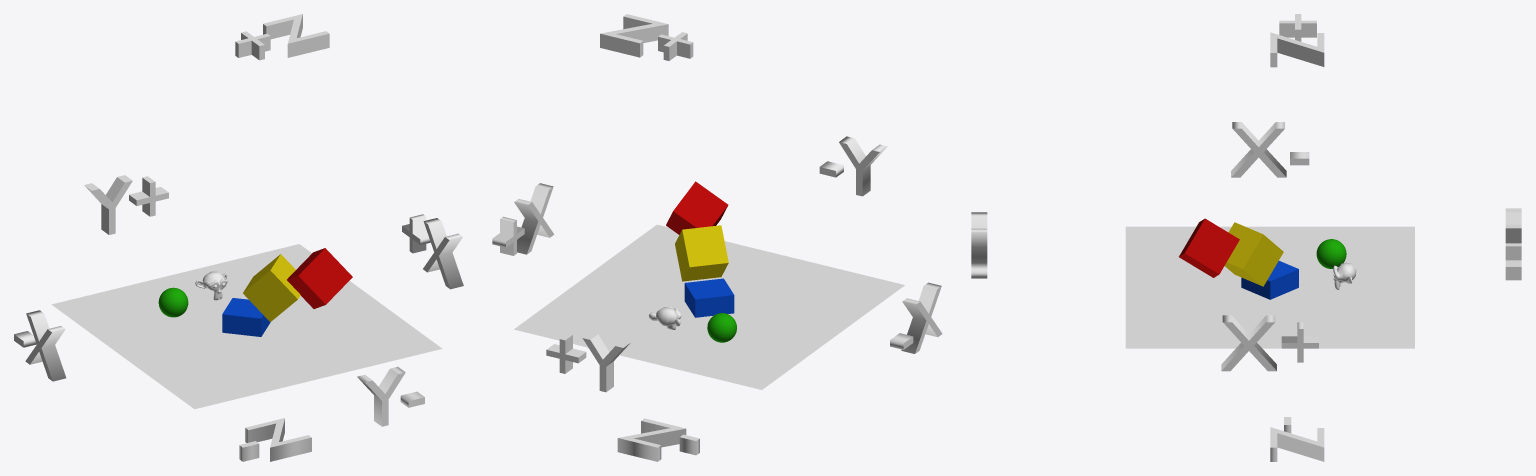
The model's file is test_rotation.dae.
3 renders of one model, left to right at view 1: azimuth 30°, elevation 25°; view 2: azimuth 150°, elevation 25°; view 3: azimuth 270°, elevation 25°, orthographic.
Parts seen in each view (by area): view 1: Plane, Cube, Text, Cube_002, Text_004, Text_002, Text_001, Text_005, Text_003, Sphere, Monkey; view 2: Plane, Cube, Text_004, Text, Text_005, Text_002, Cube_002, Text_001, Text_003, Sphere, Monkey; view 3: Plane, Cube, Text, Cube_002, Text_004, Text_001, Text_005, Text_002, Text_003, Sphere.
Part boxes in pixels (x1=…): Plane: x1=51, y1=244, x2=442, y2=409; Cube: x1=222, y1=254, x2=300, y2=336; Text: x1=402, y1=214, x2=463, y2=289; Cube_002: x1=287, y1=248, x2=352, y2=308; Text_004: x1=235, y1=14, x2=329, y2=60; Text_002: x1=84, y1=175, x2=168, y2=234; Text_001: x1=14, y1=310, x2=66, y2=381; Text_005: x1=239, y1=418, x2=311, y2=461; Text_003: x1=357, y1=366, x2=424, y2=426; Sphere: x1=158, y1=287, x2=188, y2=317; Monkey: x1=195, y1=271, x2=227, y2=300; Plane: x1=514, y1=224, x2=904, y2=389; Cube: x1=675, y1=225, x2=734, y2=317; Text_004: x1=600, y1=14, x2=693, y2=60; Text: x1=492, y1=183, x2=554, y2=255; Text_005: x1=617, y1=418, x2=699, y2=461; Text_002: x1=546, y1=332, x2=630, y2=392; Cube_002: x1=666, y1=181, x2=728, y2=234; Text_001: x1=890, y1=282, x2=942, y2=353; Text_003: x1=819, y1=136, x2=887, y2=196; Sphere: x1=707, y1=313, x2=736, y2=342; Monkey: x1=649, y1=306, x2=681, y2=329; Plane: x1=1125, y1=226, x2=1414, y2=348; Cube: x1=1224, y1=222, x2=1298, y2=299; Text: x1=1221, y1=315, x2=1318, y2=371; Cube_002: x1=1179, y1=218, x2=1239, y2=277; Text_004: x1=1270, y1=14, x2=1324, y2=67; Text_001: x1=1231, y1=122, x2=1309, y2=177; Text_005: x1=1270, y1=417, x2=1324, y2=461; Text_002: x1=1505, y1=208, x2=1521, y2=280; Text_003: x1=971, y1=212, x2=987, y2=278; Sphere: x1=1316, y1=239, x2=1346, y2=268.
Size of the model in its own units: 23.15 by 26.89 by 22.54.
